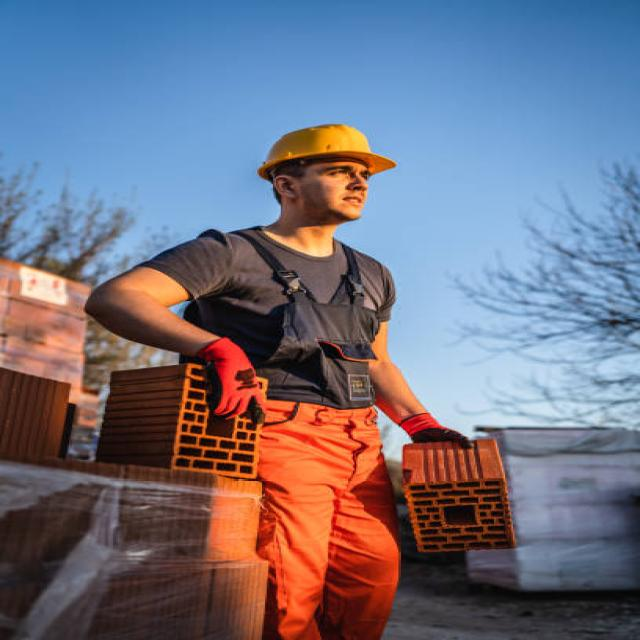Gloves: (198, 329, 285, 428), (393, 400, 479, 462)
helmet: (254, 122, 402, 184)
person: (80, 118, 516, 640)
